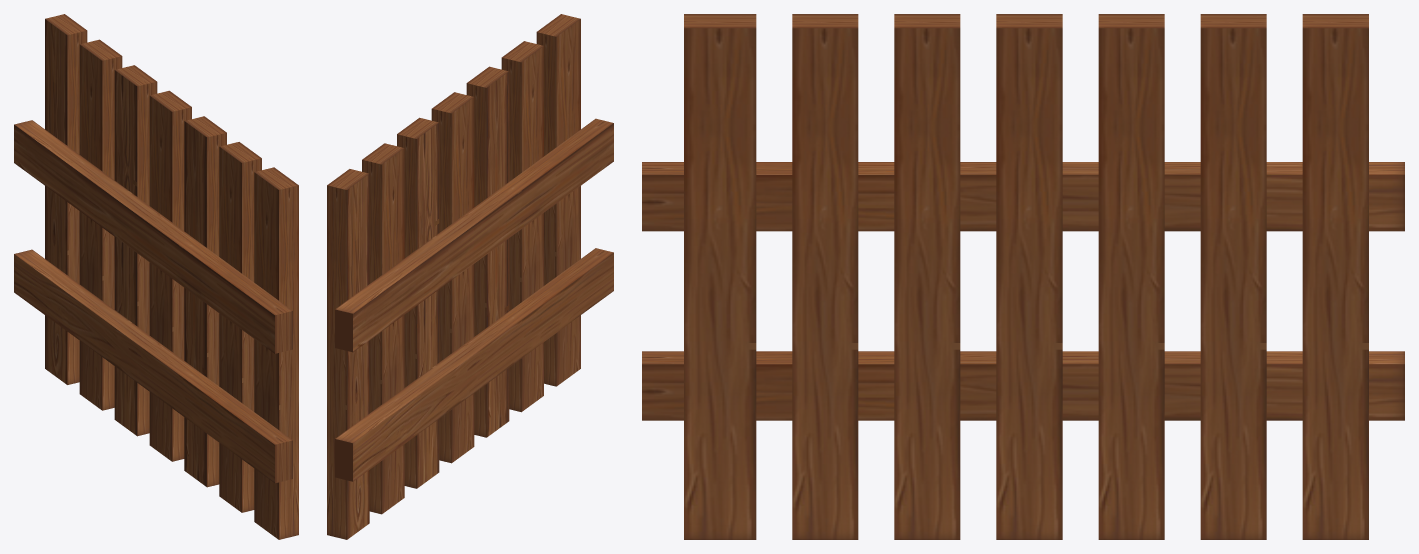
File: Fence 1.fbx
3 renders of one model, left to right at view 1: azimuth 30°, elevation 25°; view 2: azimuth 150°, elevation 25°; view 3: azimuth 270°, elevation 25°, orthographic. The views are drawn at different scales.
Visible parts, largest first — view 1: Fence_Dark Wood_0; view 2: Fence_Dark Wood_0; view 3: Fence_Dark Wood_0.
Part boxes in pixels (x1,y1,x2,y2): Fence_Dark Wood_0: (14,14,298,539); Fence_Dark Wood_0: (327,14,613,539); Fence_Dark Wood_0: (642,14,1404,539).
Size of the model in its own units: 27.92 by 243 by 329.
